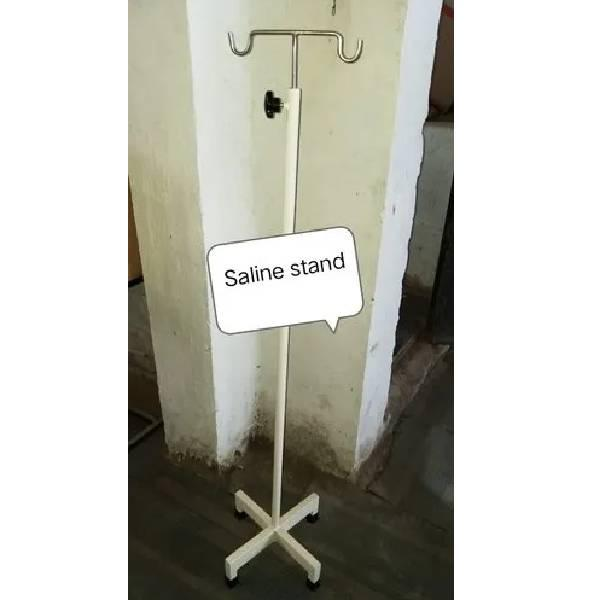Saline Stand: (211, 19, 375, 598)
